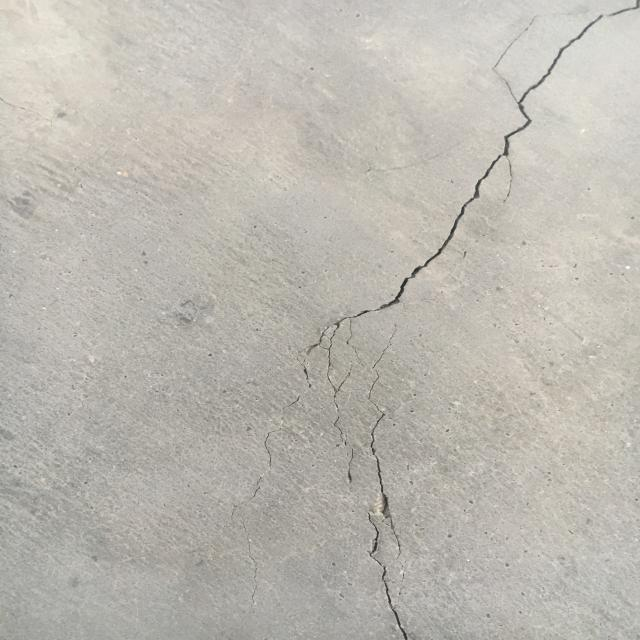Rachadura: (296, 0, 640, 409), (363, 325, 416, 640)
